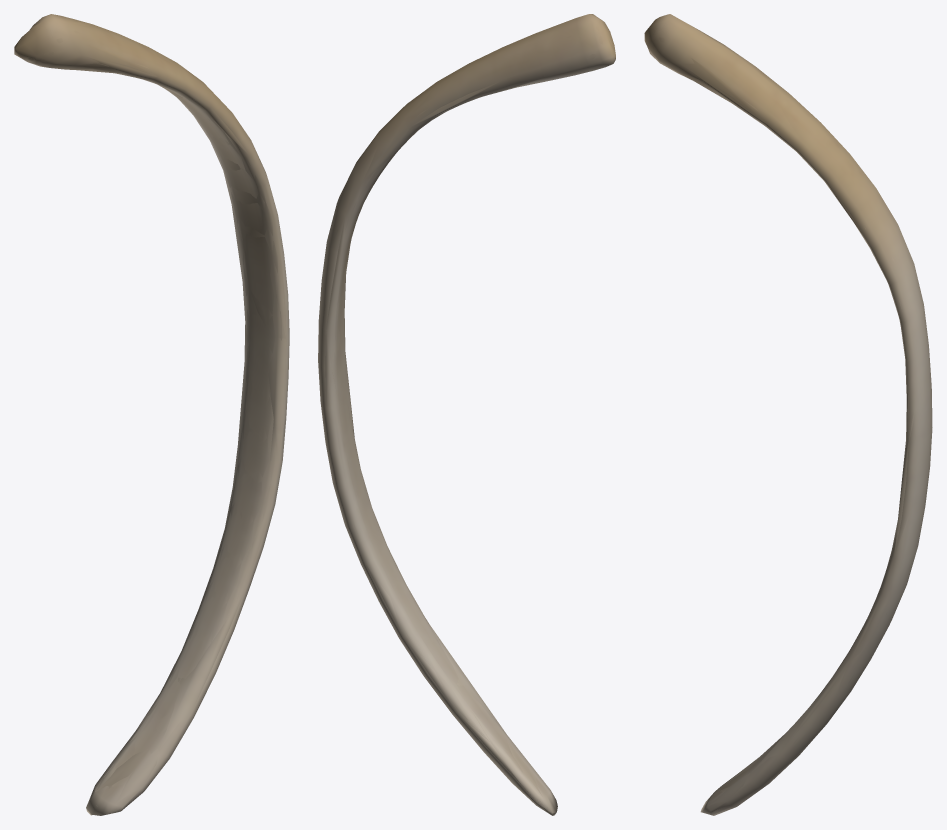
The model's file is Rib L04.fbx.
The picture shows the model from 3 angles, left to right: view 1: azimuth 30°, elevation 25°; view 2: azimuth 150°, elevation 25°; view 3: azimuth 330°, elevation 25°; orthographic projection. The views are drawn at different scales.
Parts seen in each view (by area): view 1: Rib L04, Rib L04 high, Rib L04 low; view 2: Rib L04, Rib L04 high, Rib L04 low; view 3: Rib L04, Rib L04 low, Rib L04 high.
Boxes of the visible parts, x1,y1,x2,y2 form: Rib L04: (14, 14, 289, 815); Rib L04 high: (27, 22, 283, 801); Rib L04 low: (17, 16, 288, 813); Rib L04: (318, 14, 615, 815); Rib L04 high: (319, 24, 605, 810); Rib L04 low: (319, 14, 614, 814); Rib L04: (644, 14, 932, 815); Rib L04 low: (647, 15, 931, 812); Rib L04 high: (651, 22, 926, 810).
Bounding box in the file's own units: 5.48 × 15.14 × 1.73.
1 material, 1 textured.
